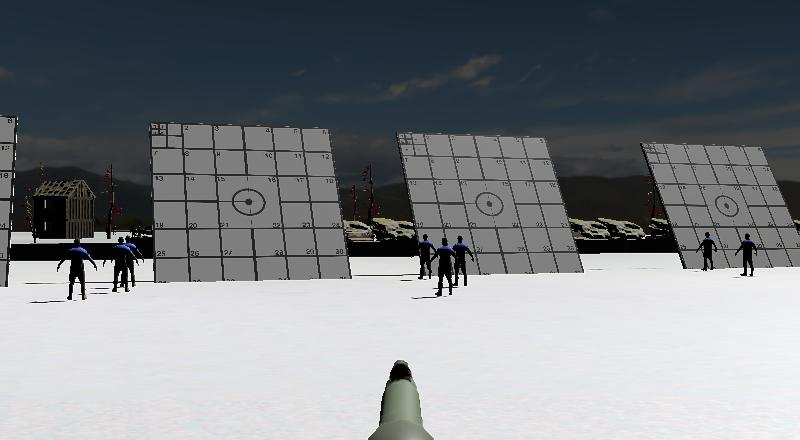House: (25, 168, 102, 254)
Human: (39, 228, 149, 310), (408, 229, 480, 302), (409, 228, 442, 285), (733, 229, 761, 283), (694, 228, 721, 276)
